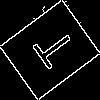T: (24, 24, 78, 76)
